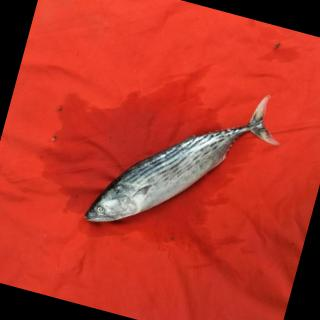Ikan: (82, 54, 286, 277)
